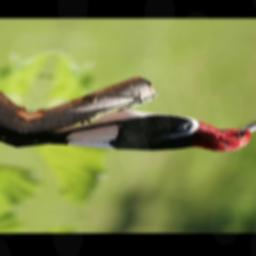Woodpecker: (15, 90, 256, 175)
